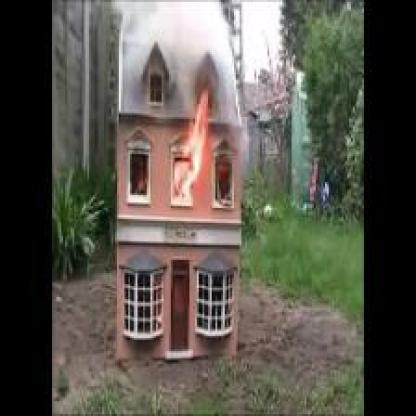fire: (172, 87, 209, 197)
